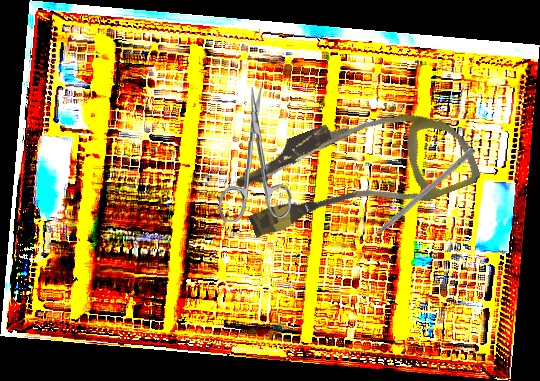Cannula: (227, 79, 483, 263)
Iris Scissors: (218, 85, 296, 225)
Pusher: (357, 145, 477, 251)
